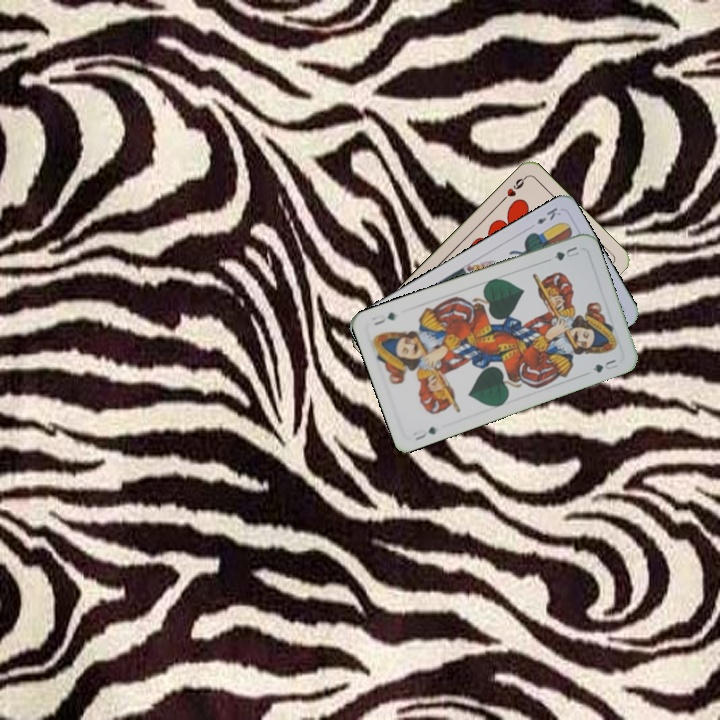EK: (532, 203, 564, 227)
GU: (550, 242, 582, 263), (409, 423, 440, 443)
H9: (497, 173, 529, 205)
